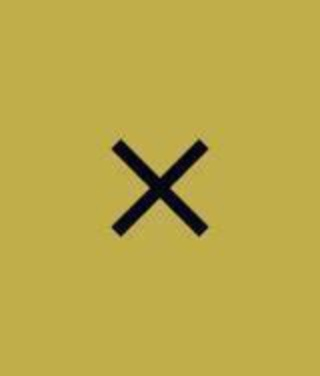ImgButton: (1, 1, 319, 375)
